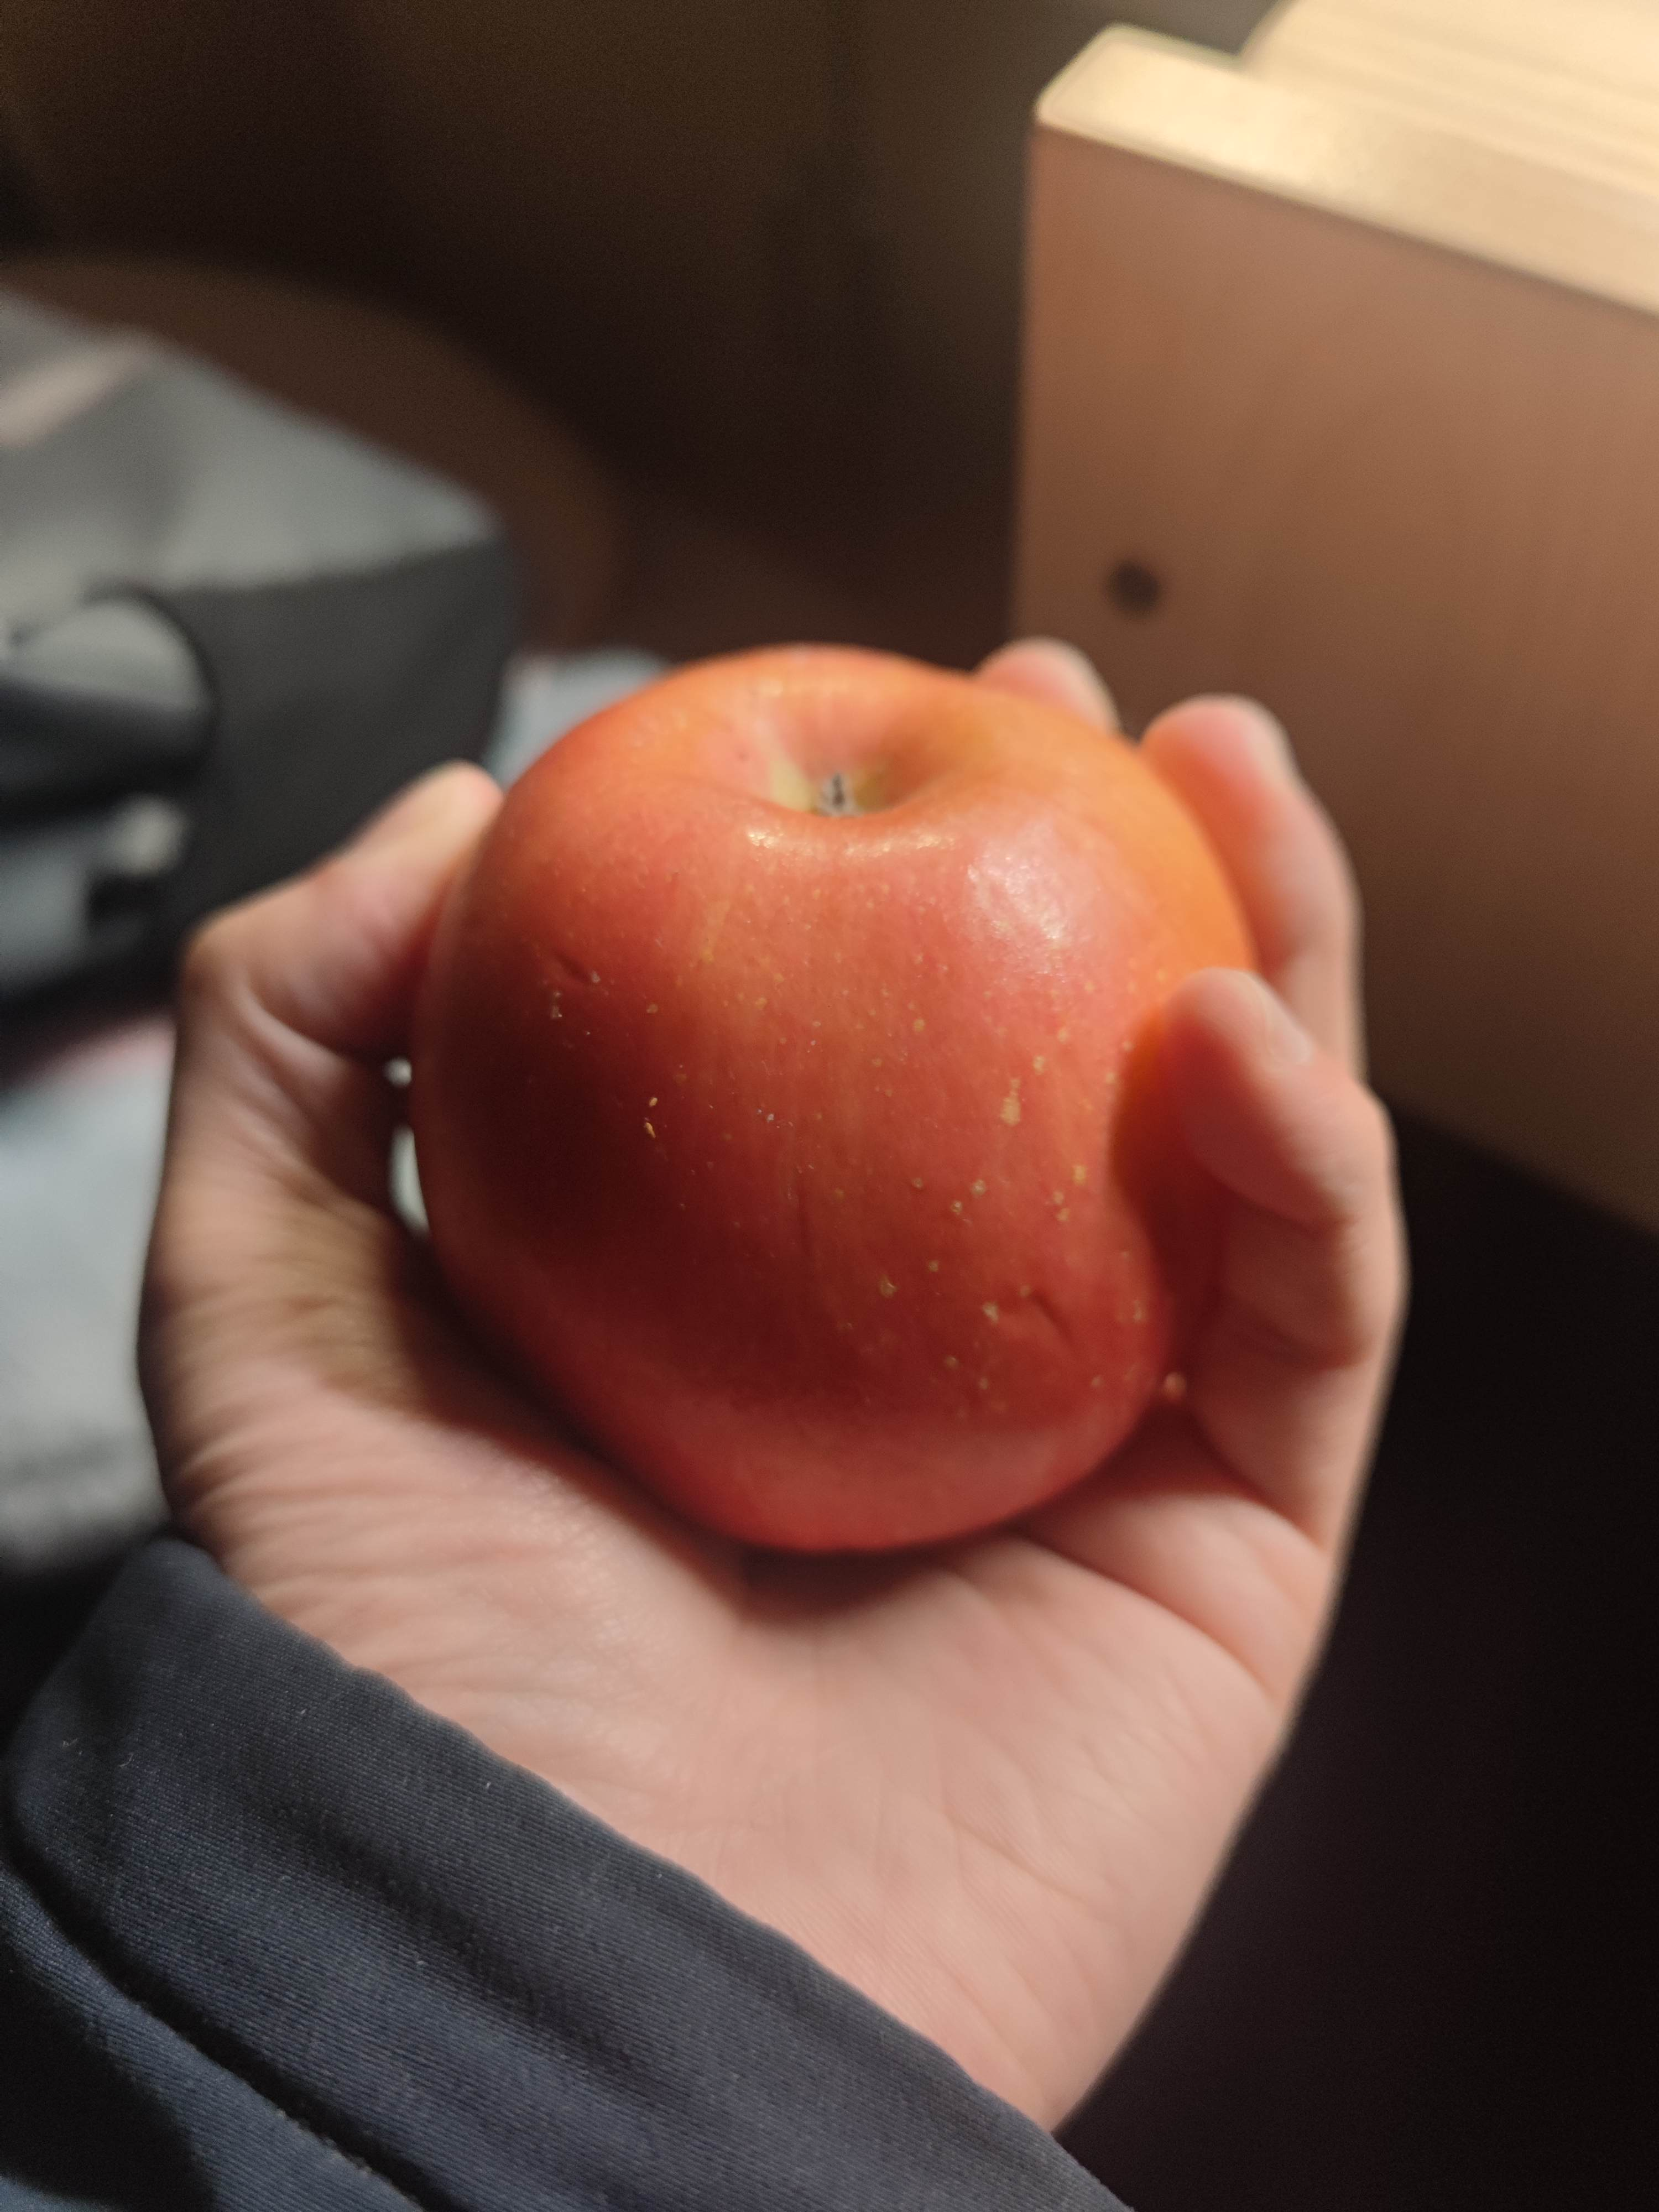apple: (410, 653, 1284, 1568)
